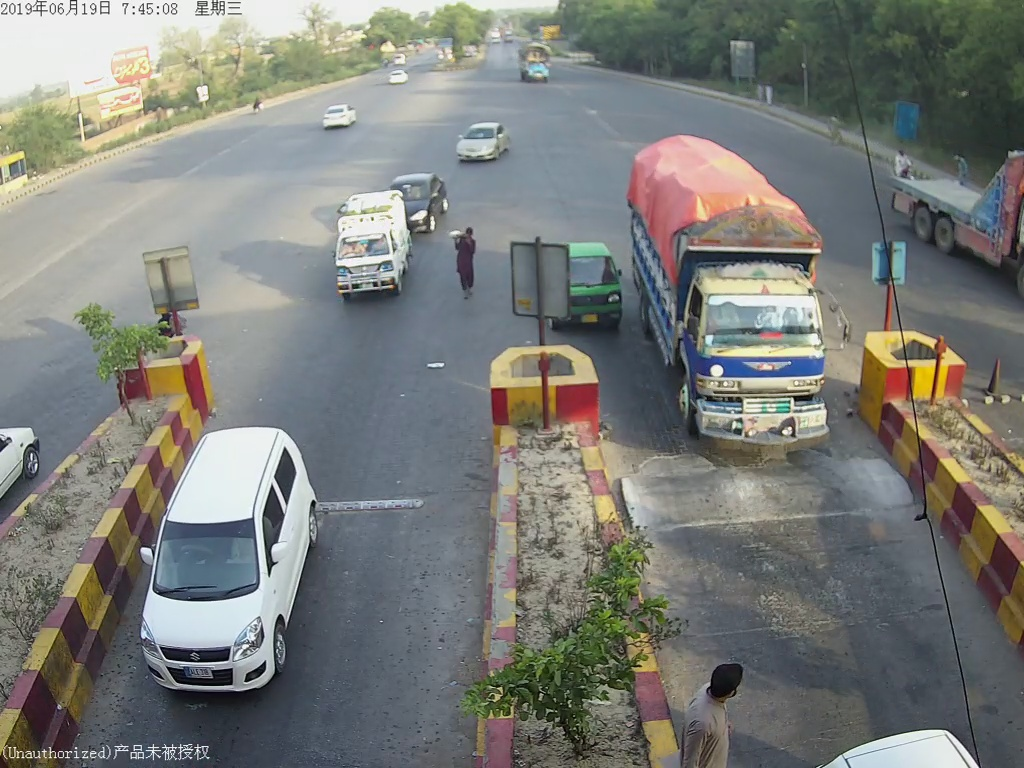Cat-1: (146, 425, 326, 698), (329, 190, 402, 288), (451, 115, 509, 168)
Cat-4: (636, 147, 846, 453)
